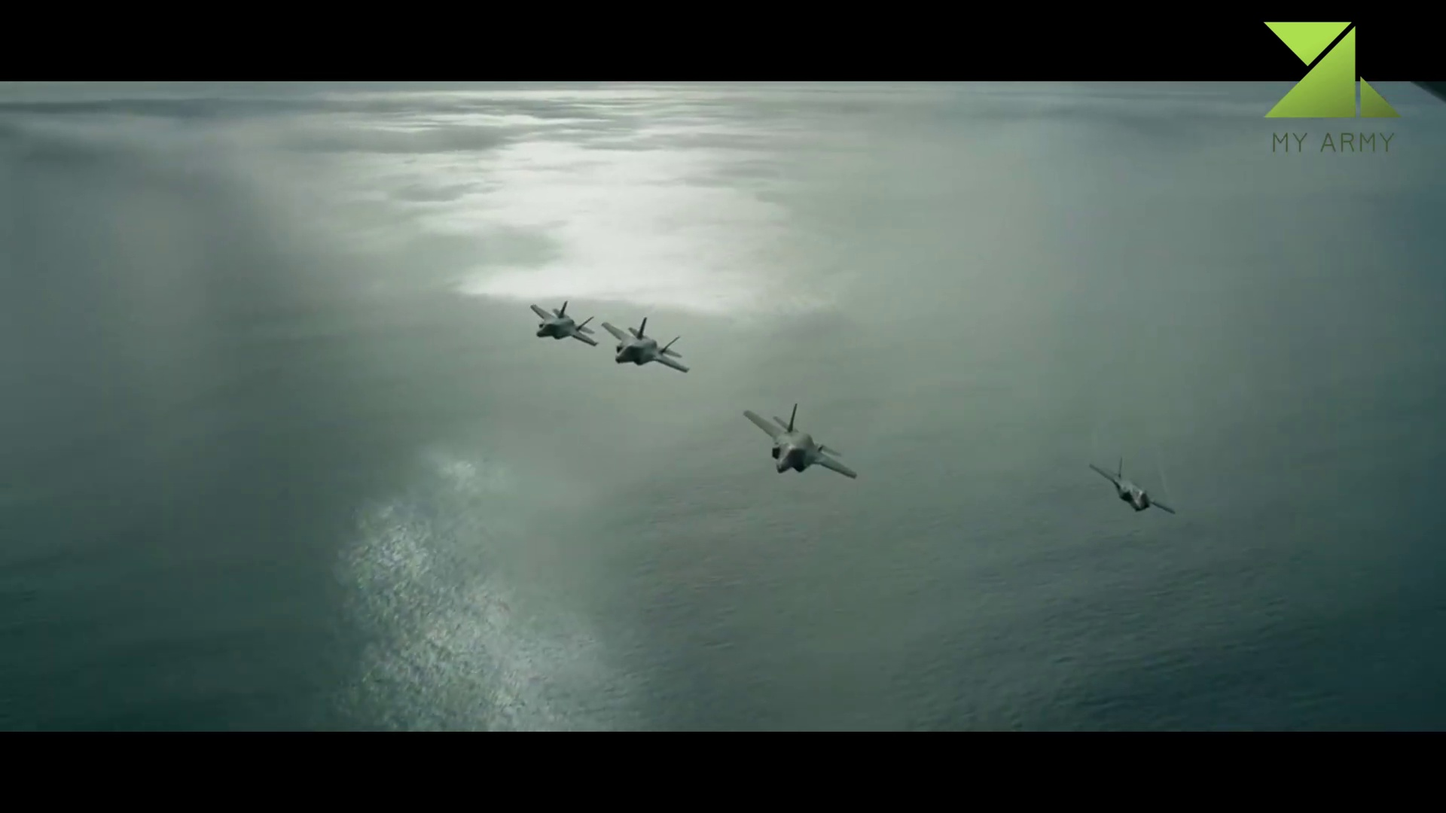F35: (741, 403, 858, 479), (1089, 457, 1177, 514), (601, 317, 689, 372), (529, 300, 599, 346)
